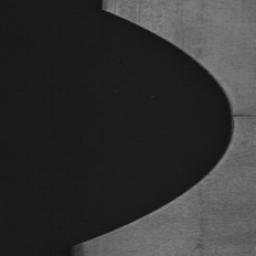Crescent gap: (83, 10, 233, 243)
